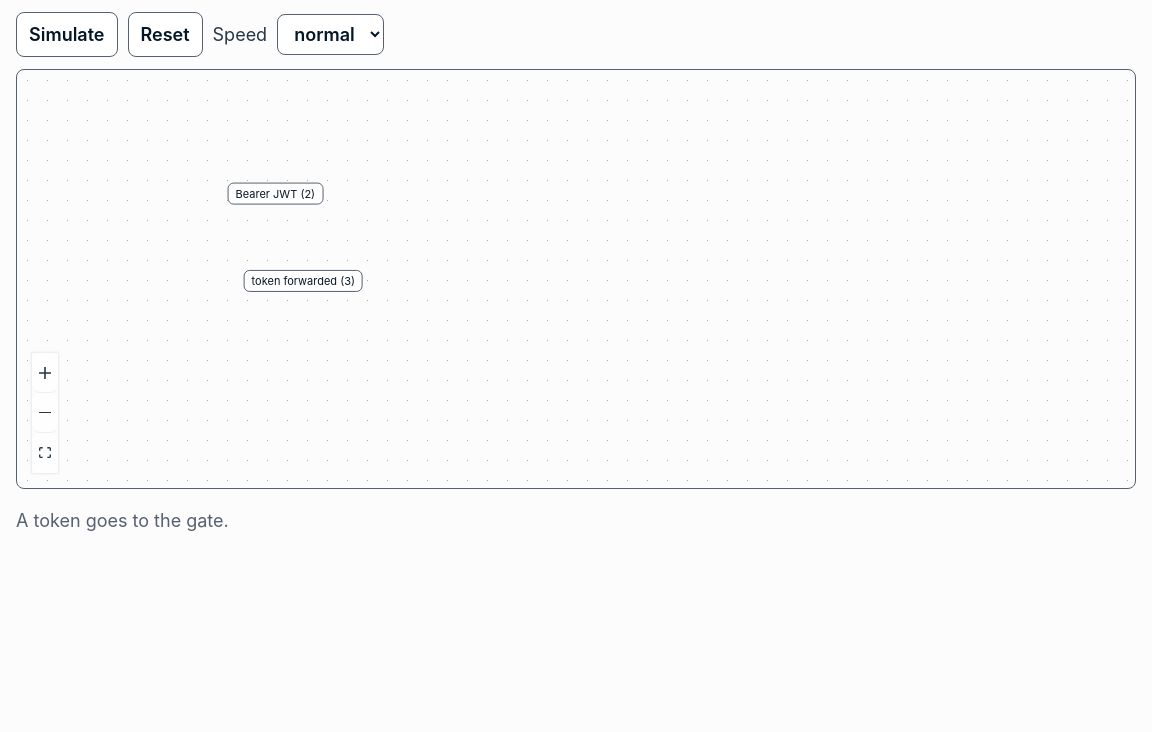
arrow labels › Simulate marks the walked arrow's label
Click the button with test id "simulate-btn": x=67, y=34 [16,12,118,57]
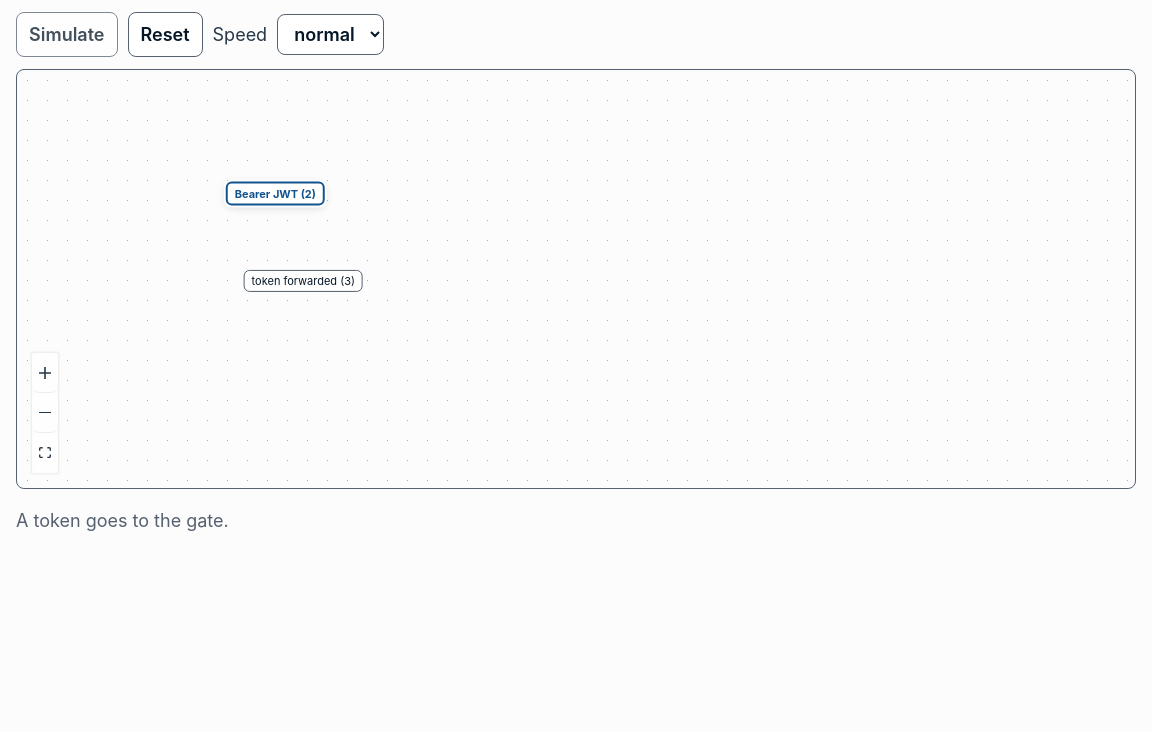
Expected: the number of elements with class "dk-label--on" is 1, [226,182,325,206]
Now the text with test id "dk-label-e0" has class "dk-label--on", box [226,182,325,206]
